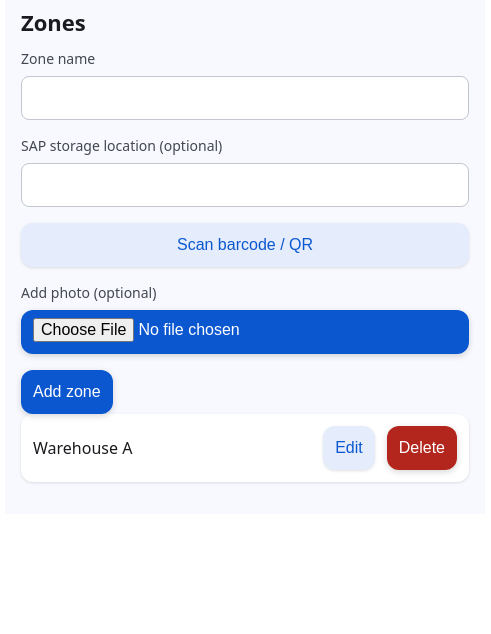
it: ZonesPage › edits an existing zone
The image size is (491, 634).
Expected: the text "Warehouse A" is shown, [33,437,132,459]
Click the button "Edit" at {"x": 349, "y": 448}, box [323,426,375,470]
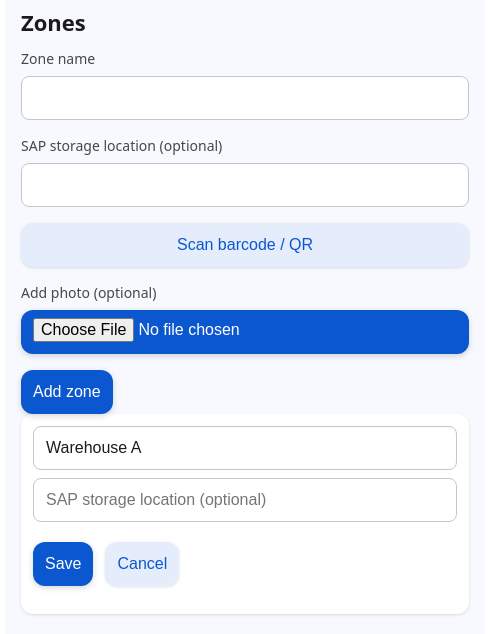
Replace the text in the field named "edit name" with "Warehouse A1" at {"x": 245, "y": 448}, box [33,426,457,470]
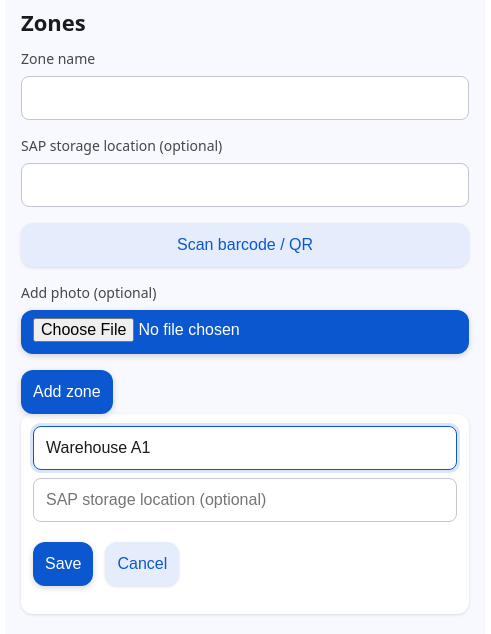
Click the button "Save" at {"x": 63, "y": 564}, box [33,542,94,586]
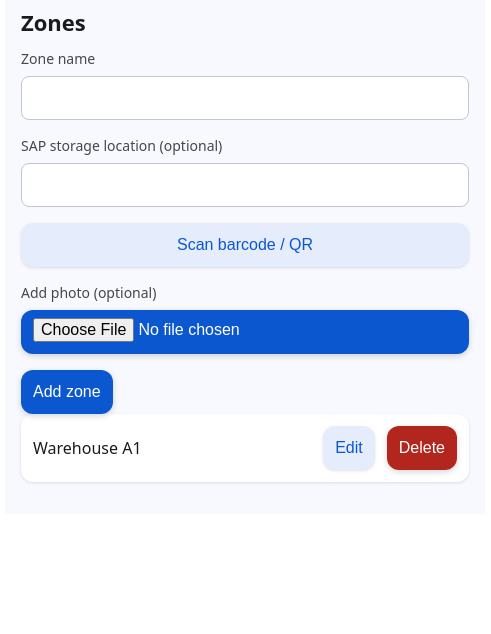
Now the text "Warehouse A1" is shown, box [33,437,142,459]
